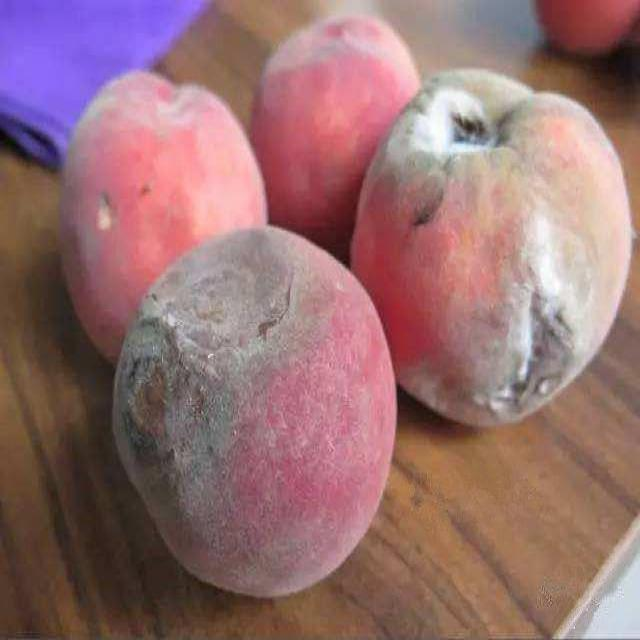Wet Waste: (58, 0, 632, 603)
